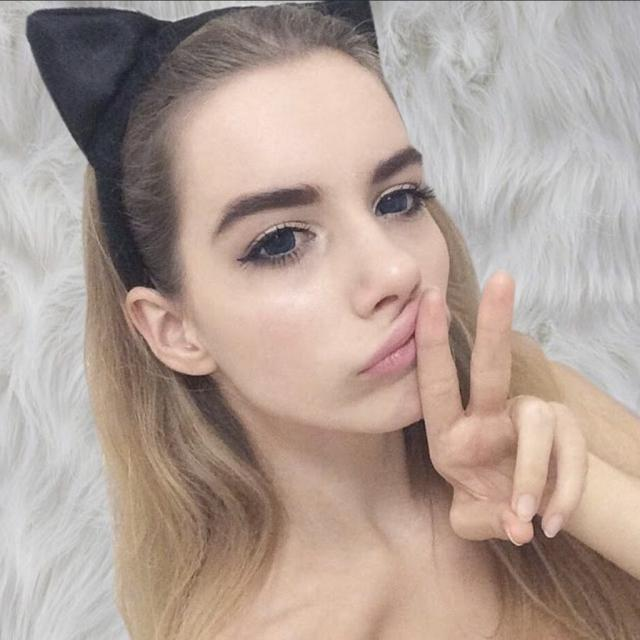earlobe: (124, 286, 215, 376)
